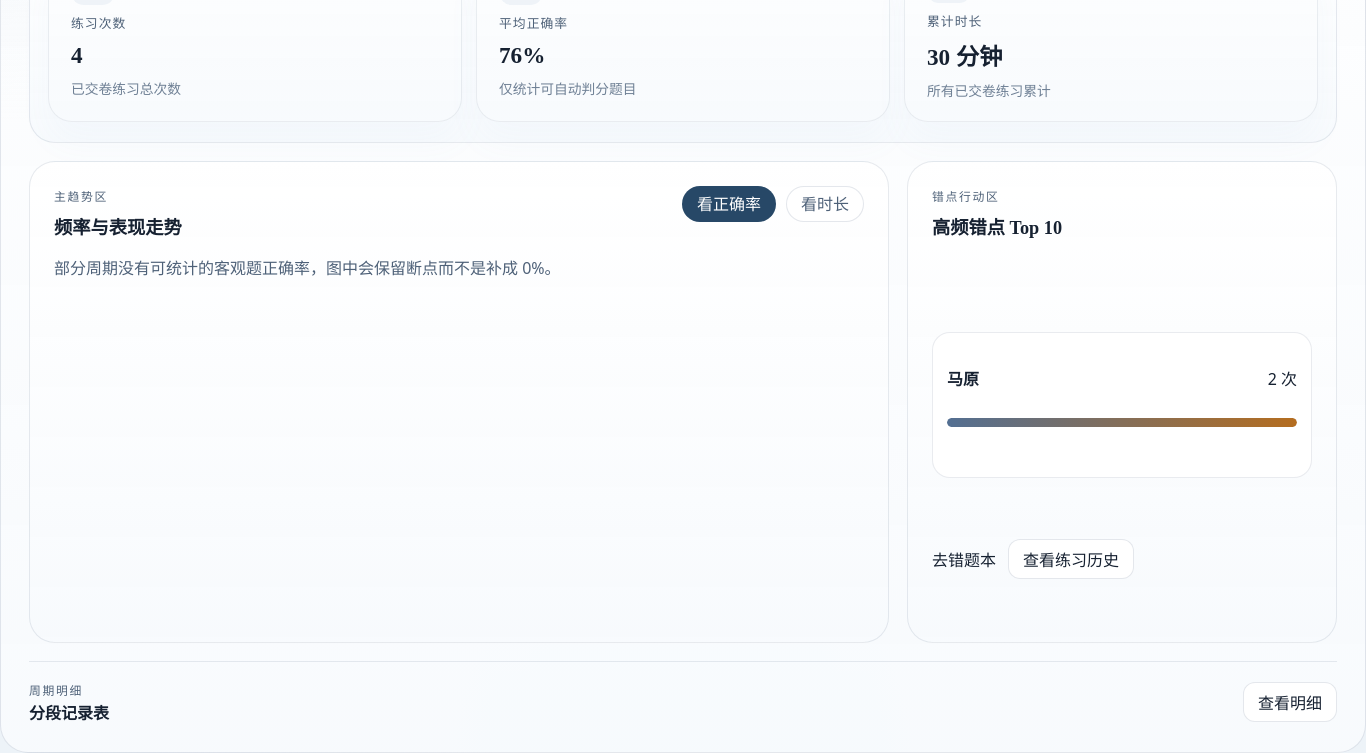
Test: practice pages › renders dashboard summaries and keeps null accuracy as a dash in details
(page scrolled)
Expected: the text "马原" is shown, [947,366,979,390]
Click the button "查看明细".
click(1290, 702)  # box [1243,682,1337,722]
(page scrolled)
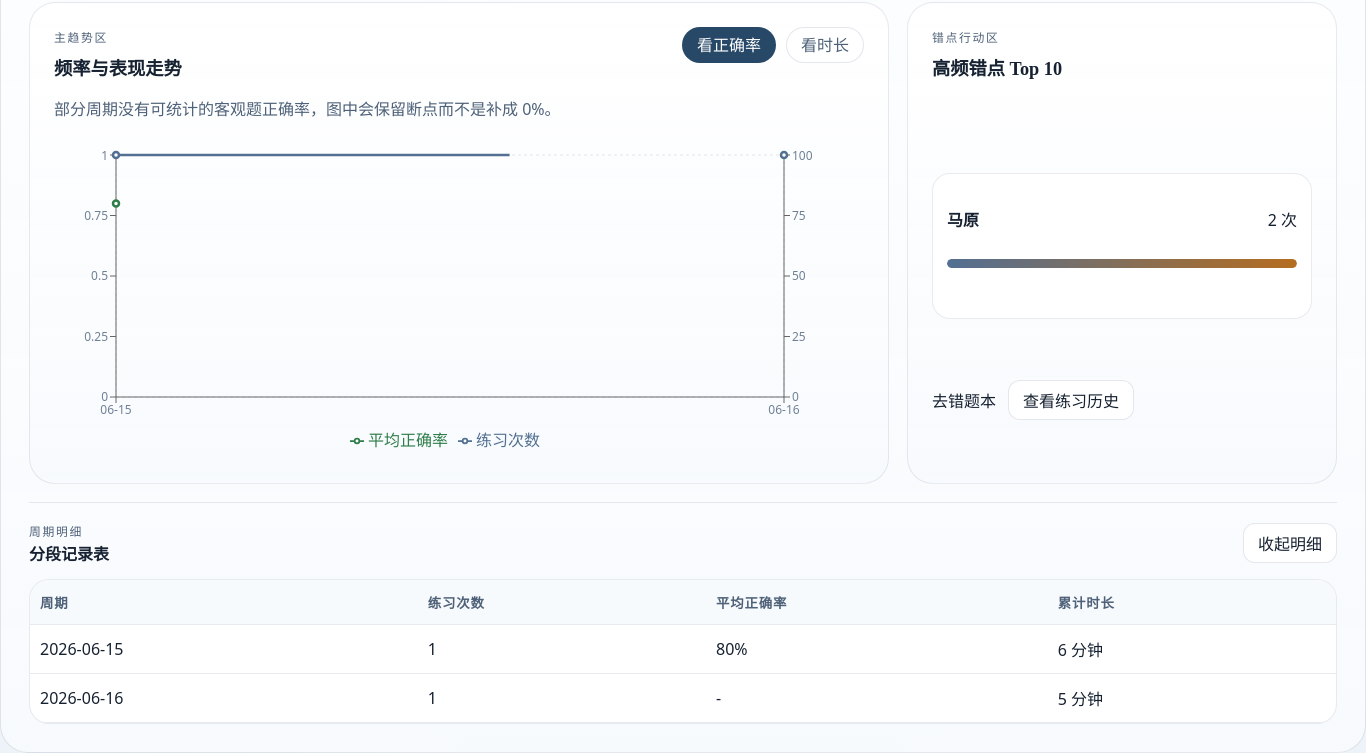
Expected: the text "-" is shown, [706,673,1048,722]
Result: the text "2026-06-16" is shown at [30,673,418,722]
